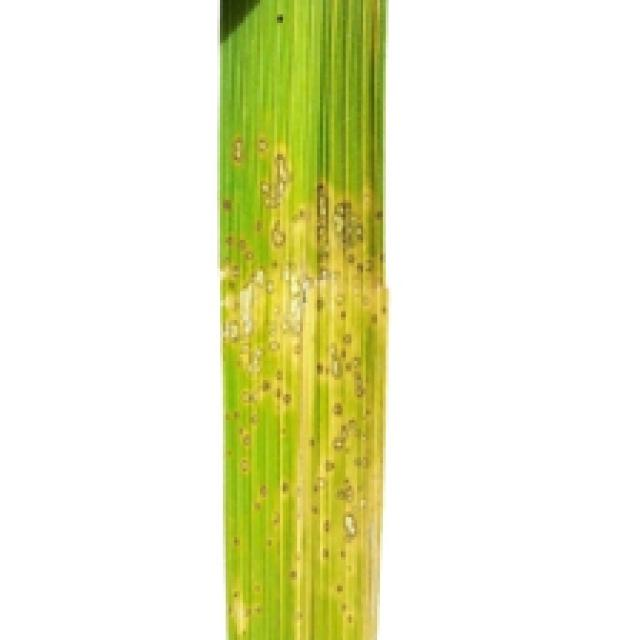Rice___Brown_Spot: (220, 0, 390, 637)
